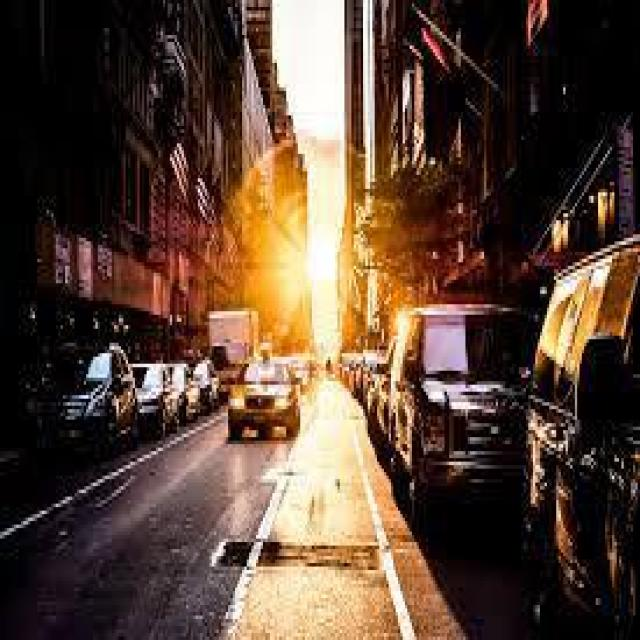other: (274, 193, 353, 311)
